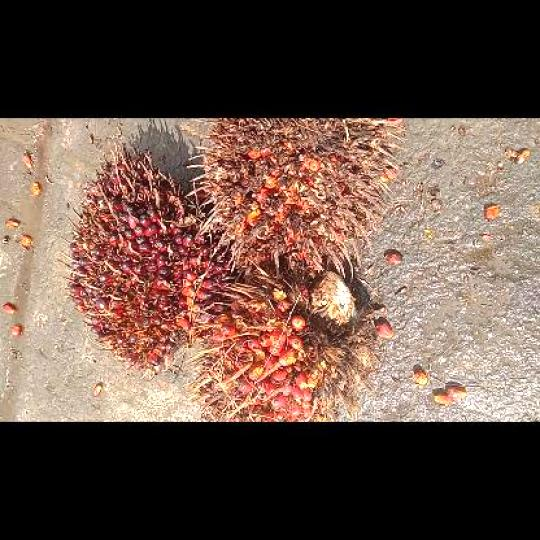masak: (60, 142, 234, 375), (181, 258, 380, 420)
terlalu masak: (184, 118, 402, 277)
